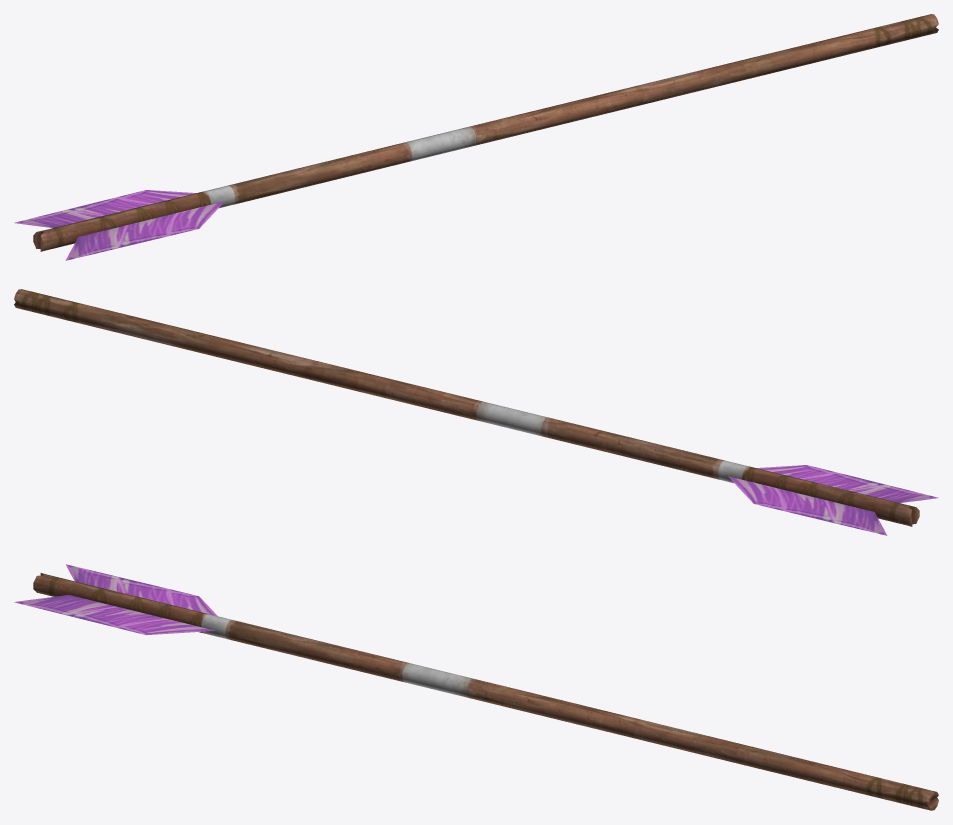
3 views of the same model, one above another, from view 1: azimuth 30°, elevation 25°; view 2: azimuth 150°, elevation 25°; view 3: azimuth 330°, elevation 25° (orthographic).
Visible parts, largest first — view 1: SM_ArrowBody_Wood_01_LOD0; view 2: SM_ArrowBody_Wood_01_LOD0; view 3: SM_ArrowBody_Wood_01_LOD0.
Boxes of the visible parts, x1,y1,x2,y2 form: SM_ArrowBody_Wood_01_LOD0: (14,14,938,260); SM_ArrowBody_Wood_01_LOD0: (14,289,938,535); SM_ArrowBody_Wood_01_LOD0: (14,564,938,810).
Size of the model in its own units: 0.8927 by 0.0174 by 0.0912.
Materials: 1 (1 with a texture image).
